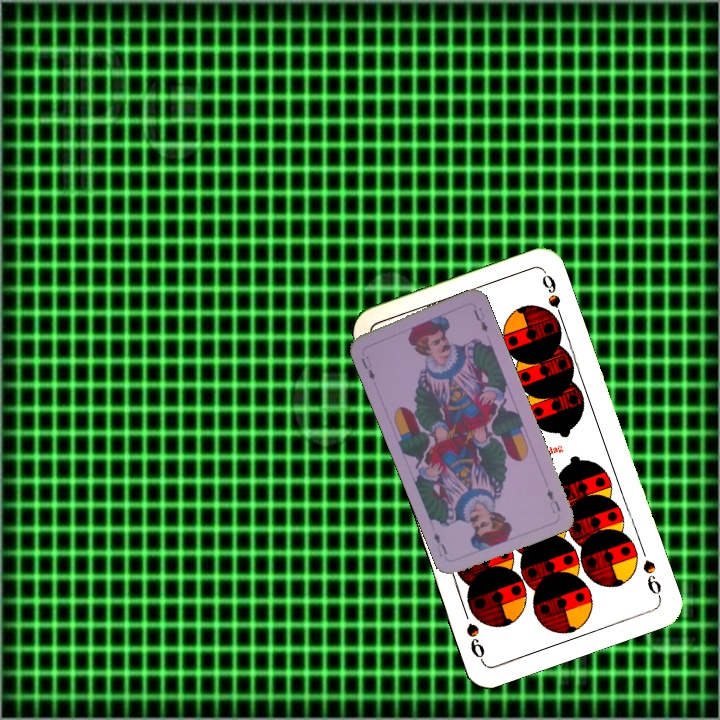EU: (357, 352, 378, 383), (543, 485, 563, 516)
S9: (638, 555, 664, 601)
